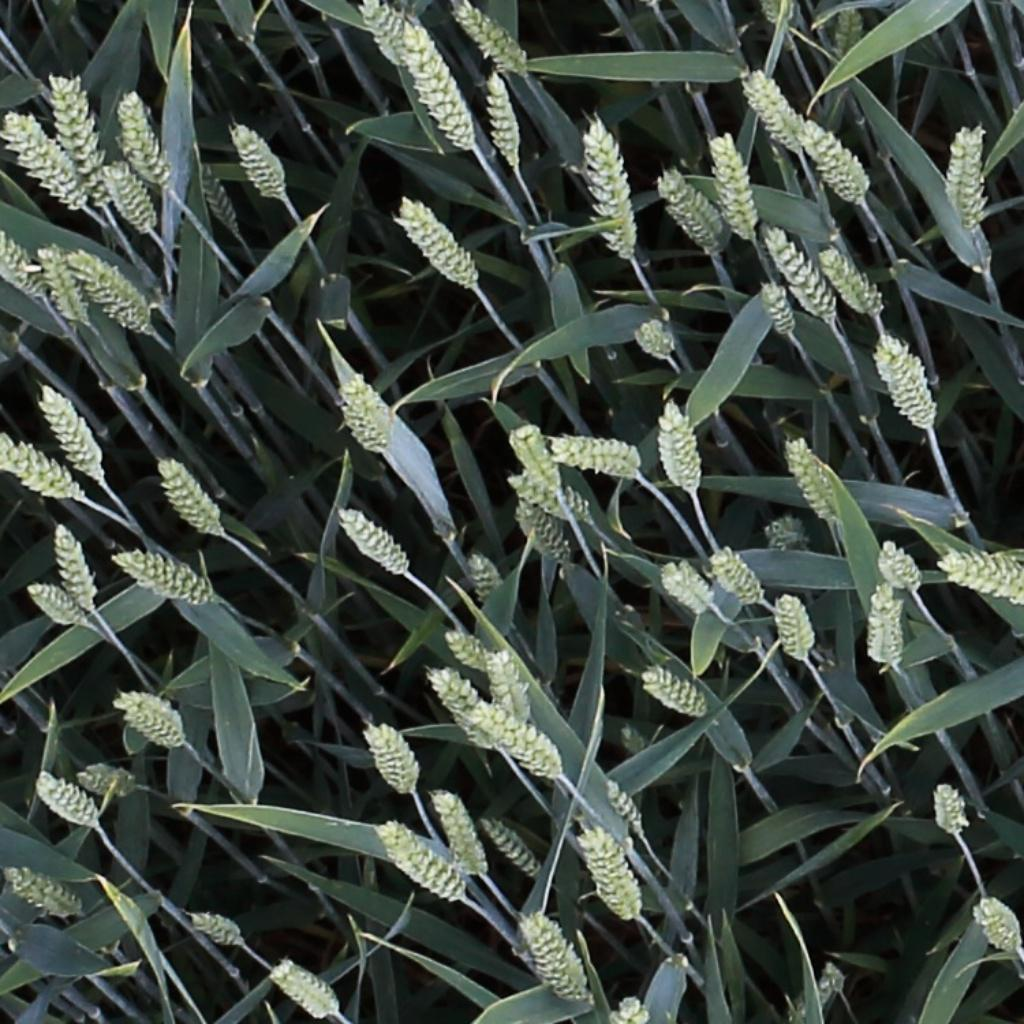0-0: (398, 19, 479, 154), (461, 684, 565, 782), (2, 107, 87, 208), (50, 72, 111, 206), (397, 197, 483, 289), (763, 221, 841, 320), (588, 113, 640, 260), (36, 378, 107, 483), (379, 824, 466, 907), (552, 418, 654, 484), (644, 382, 701, 498), (794, 117, 872, 199), (524, 909, 589, 1006), (581, 827, 644, 925), (428, 666, 496, 756), (659, 166, 730, 252), (453, 1, 531, 79), (118, 87, 174, 192), (157, 454, 226, 539), (877, 334, 937, 431), (935, 536, 1022, 602), (432, 786, 491, 882), (0, 431, 79, 502), (101, 681, 184, 748), (786, 432, 843, 527), (714, 126, 761, 241), (742, 68, 806, 152), (66, 251, 150, 315), (337, 506, 412, 577), (114, 551, 214, 604), (228, 118, 288, 200), (34, 238, 88, 327), (510, 420, 569, 501), (820, 244, 886, 316), (937, 120, 984, 221), (51, 518, 98, 617), (480, 816, 546, 886), (73, 271, 150, 331), (102, 157, 159, 237), (192, 158, 247, 240), (341, 371, 391, 457), (364, 722, 417, 800), (520, 495, 574, 569), (486, 65, 524, 169), (271, 961, 341, 1017), (34, 774, 102, 831), (360, 2, 415, 72), (4, 869, 80, 918), (507, 472, 580, 522), (711, 544, 768, 607), (600, 776, 653, 843), (644, 669, 711, 718), (488, 644, 527, 727), (0, 229, 46, 297), (778, 587, 816, 669), (973, 895, 1022, 957), (660, 562, 715, 615), (879, 537, 925, 596), (25, 584, 86, 628), (760, 274, 801, 339), (868, 581, 897, 670), (935, 781, 975, 845), (876, 584, 905, 671), (466, 544, 502, 614), (445, 630, 492, 673), (835, 1, 864, 68), (189, 913, 244, 946), (886, 591, 907, 671), (637, 320, 678, 359), (77, 771, 135, 795), (615, 992, 648, 1024)
